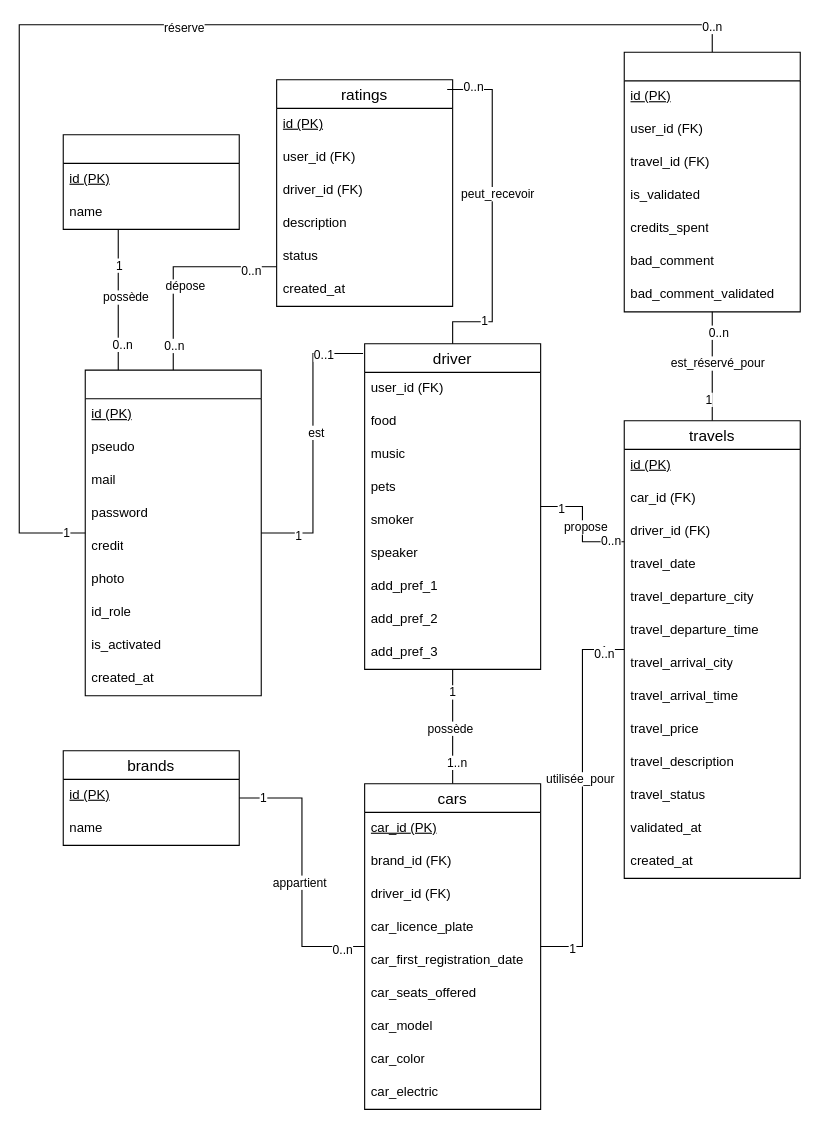
Image size: 820x1131. Some labels were removed from this diagram. The shapes that lost their labels are listed below. From the top down, each one's box as (x1, y1, x2, y2) in pixels, then its label:
(62, 134, 239, 229): roles
(623, 51, 800, 312): reservations
(84, 369, 261, 696): users
